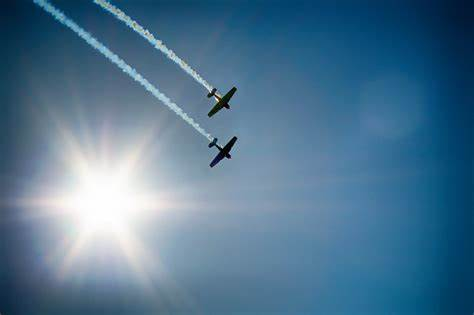aeroplane: (198, 78, 243, 122), (200, 130, 244, 172)
